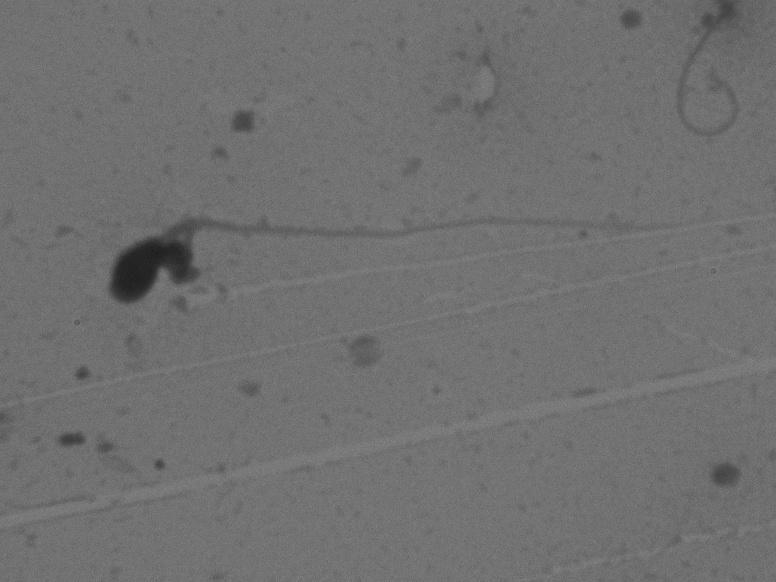Abnormal: (69, 169, 722, 339)
